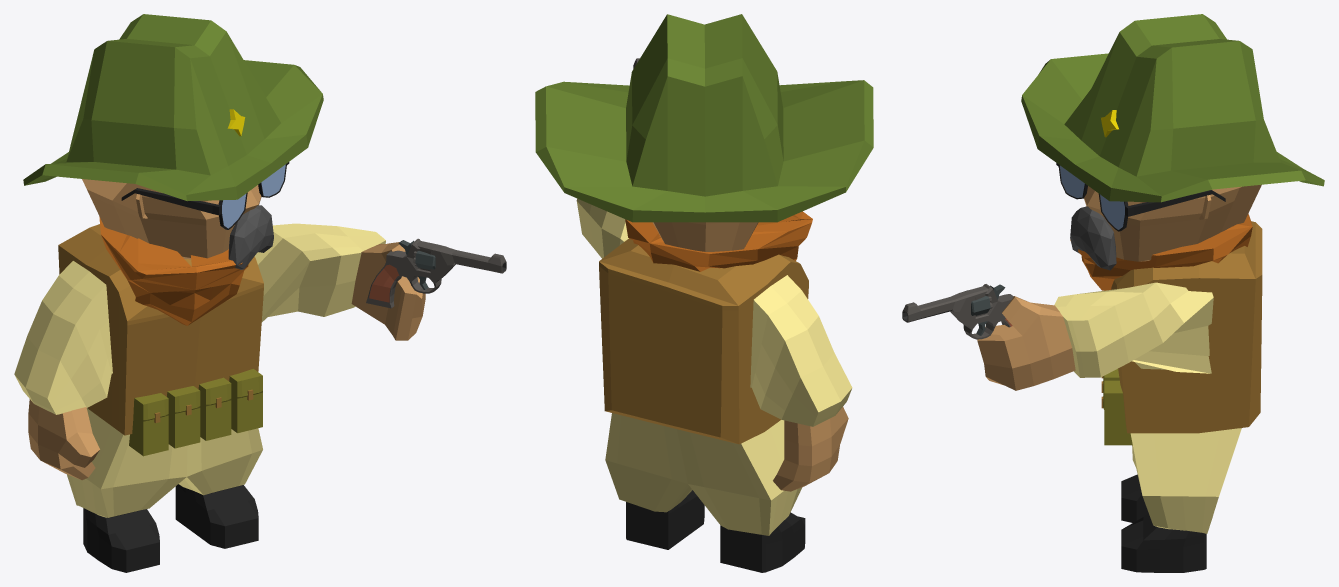
The model's file is Cowboy.fbx.
3 views of the same model, side by side, from view 1: azimuth 30°, elevation 25°; view 2: azimuth 150°, elevation 25°; view 3: azimuth 270°, elevation 25° (orthographic). The views are drawn at different scales.
Visible parts, largest first — view 1: Cube.1034; view 2: Cube.1034; view 3: Cube.1034.
Part boxes in pixels (x1,y1,x2,y2): Cube.1034: [14, 14, 506, 572]; Cube.1034: [535, 14, 873, 572]; Cube.1034: [902, 14, 1324, 572].
Bounding box in the file's own units: 63.1 × 87.42 × 65.58.
